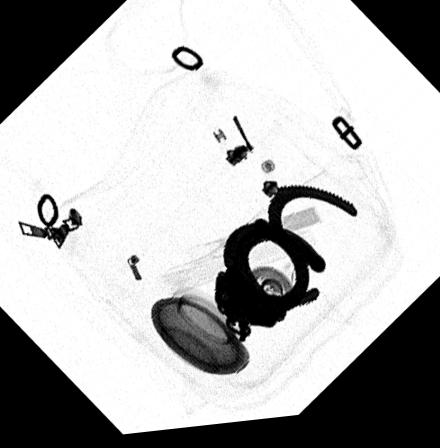HandCuffs: (213, 189, 358, 351)
